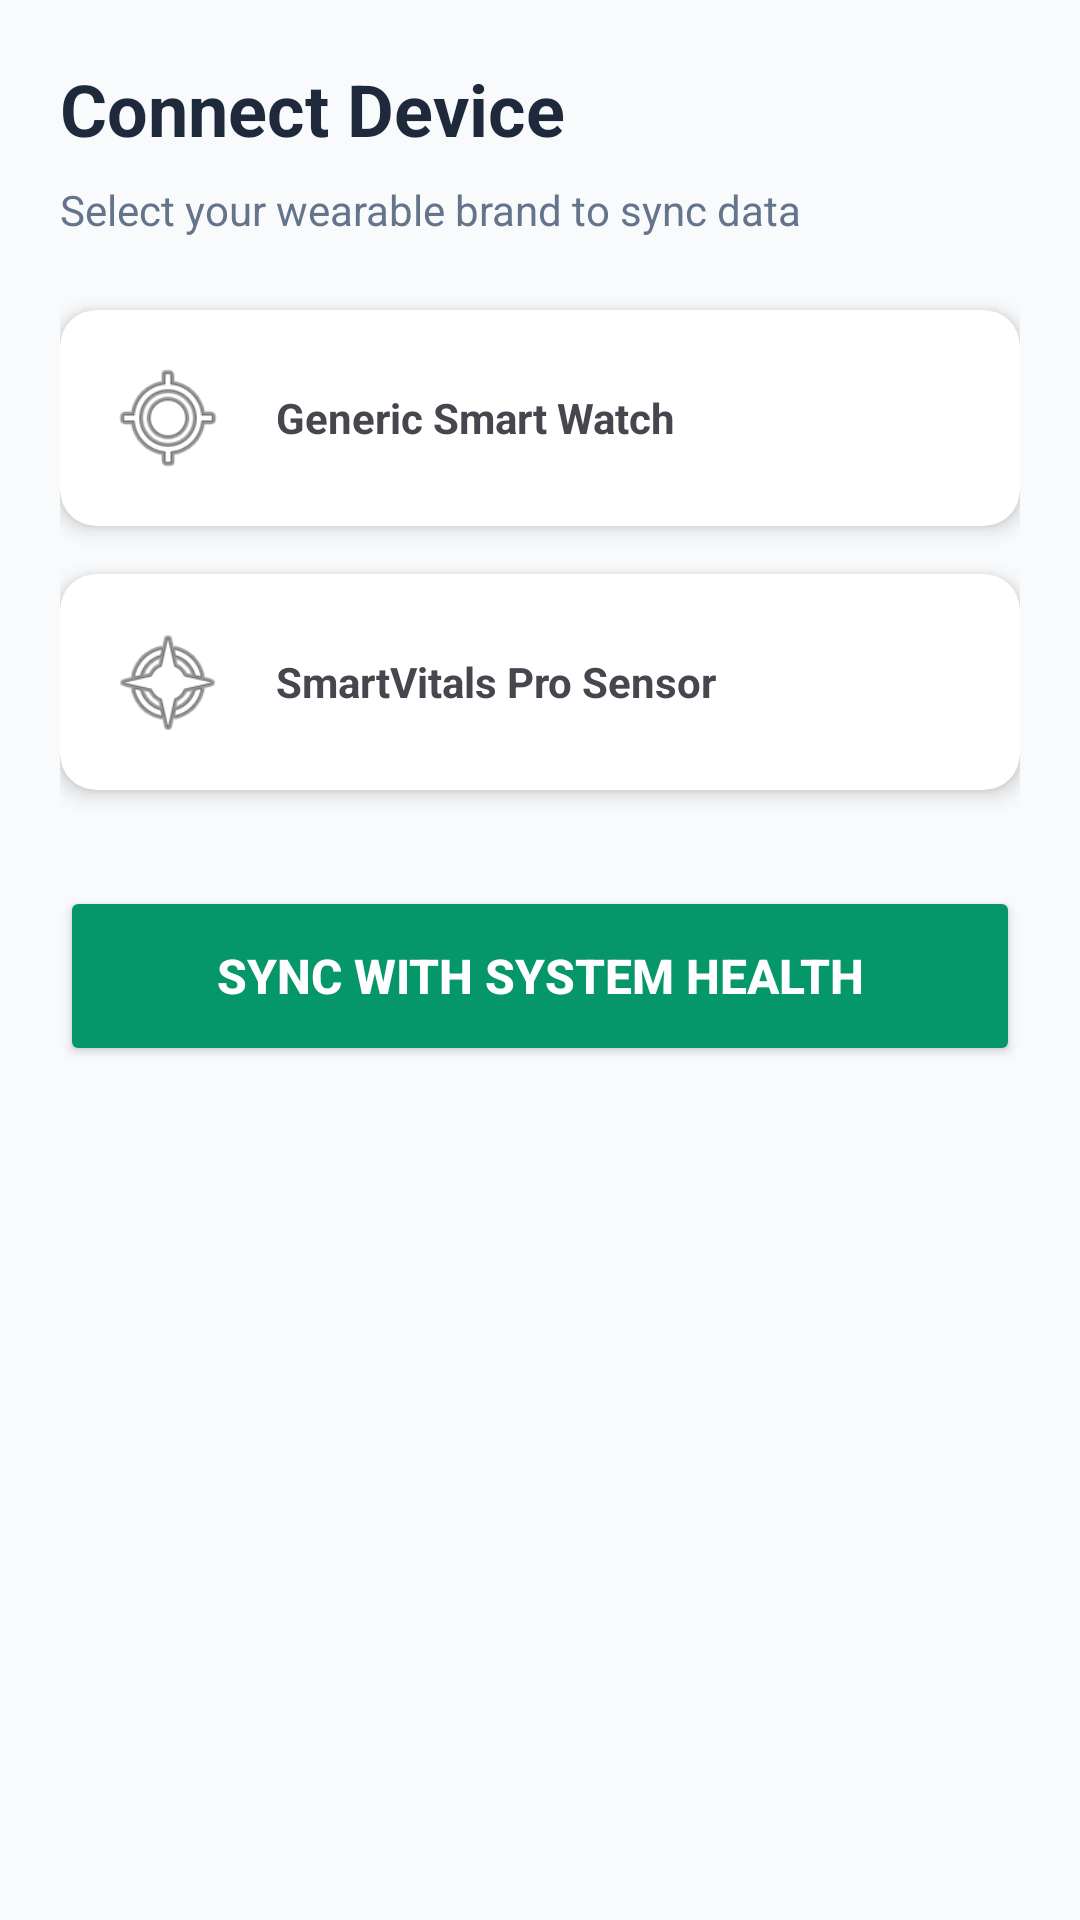

Named icons in this screenshot (1080*1920) and their bounding boxes, (left=x1, top=y1, right=x2, bottom=y2):
compass: (left=120, top=635, right=215, bottom=730)
mylocation: (left=120, top=370, right=216, bottom=466)
